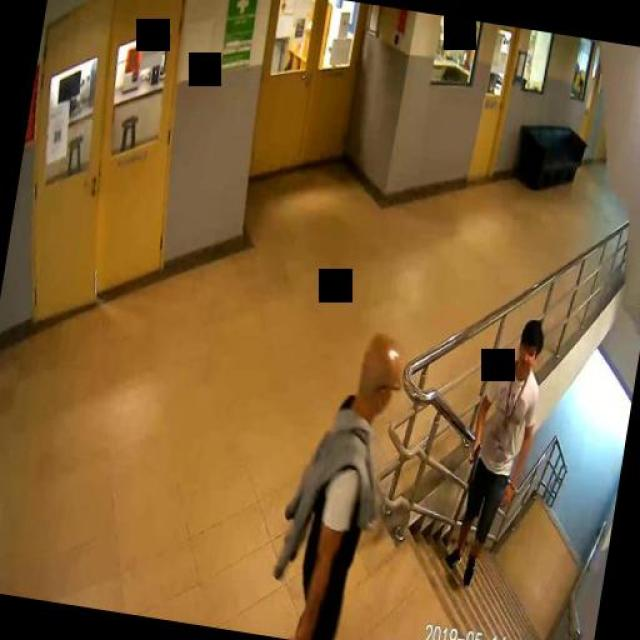gun: (465, 438, 481, 483)
